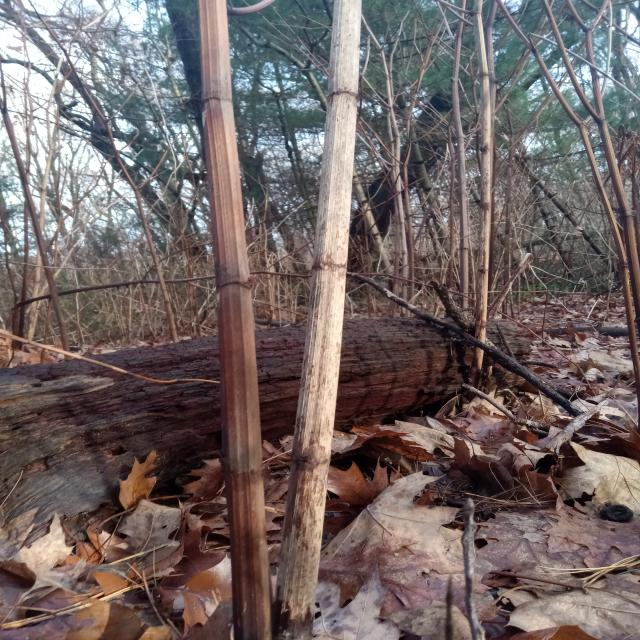knotweed-stems: (272, 0, 362, 639), (196, 2, 272, 638)
